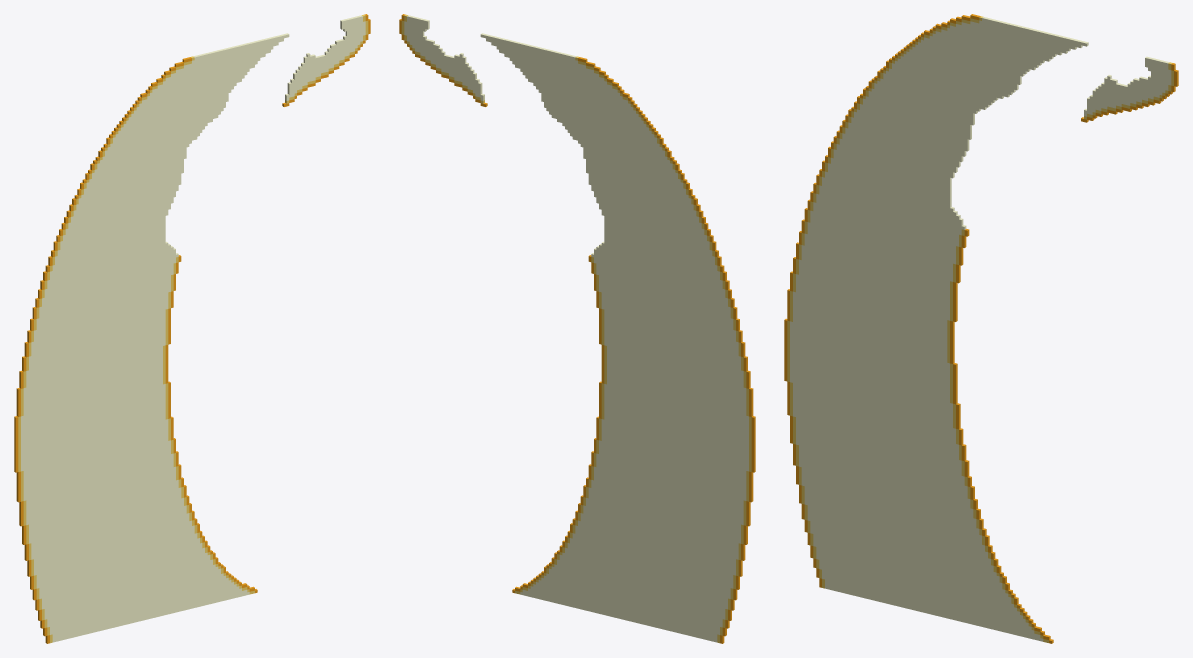
File: Fight_024_2_09_fx.obj
3 renders of one model, left to right at view 1: azimuth 30°, elevation 25°; view 2: azimuth 150°, elevation 25°; view 3: azimuth 330°, elevation 25°, orthographic. The views are drawn at different scales.
Size of the model in its own units: 13.5 by 20 by 0.1.
1 material, 1 textured.
